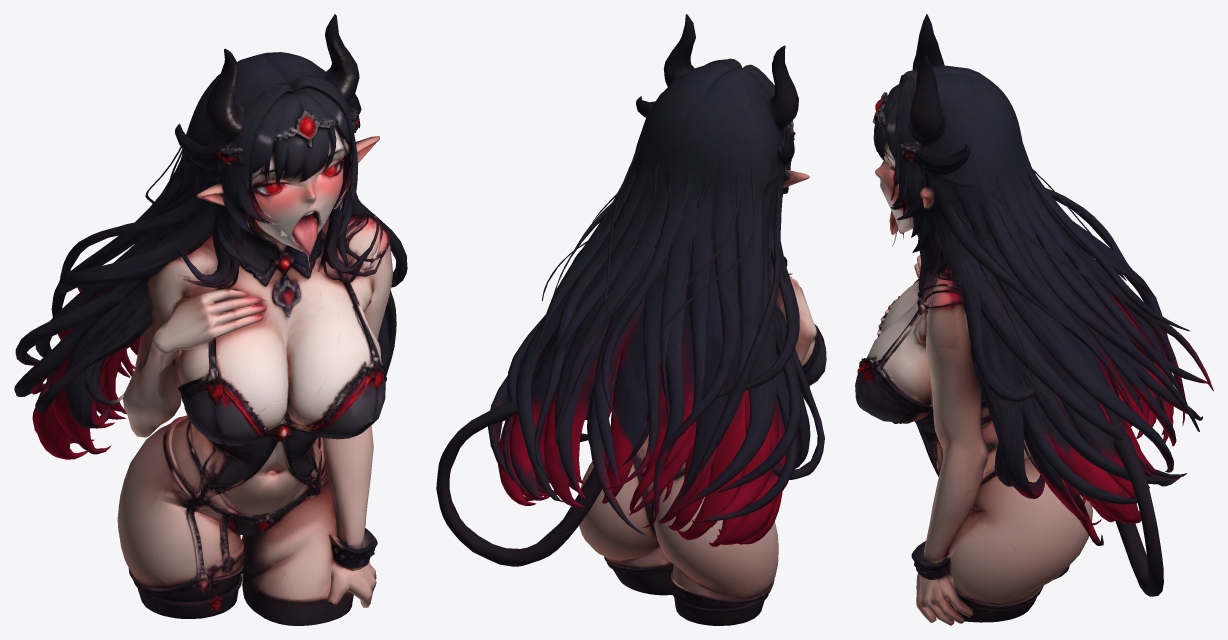
File: 01a1a2e0-870a-7974-9a57-5755efe8a577.glb
The picture shows the model from 3 angles, left to right: view 1: azimuth 30°, elevation 25°; view 2: azimuth 150°, elevation 25°; view 3: azimuth 270°, elevation 25°; orthographic projection. The views are drawn at different scales.
Visible parts, largest first — view 1: node_0; view 2: node_0; view 3: node_0.
Part boxes in pixels (x1=…): node_0: x1=14, y1=14, x2=407, y2=625; node_0: x1=436, y1=14, x2=826, y2=625; node_0: x1=855, y1=14, x2=1213, y2=625.
Bounding box in the file's own units: 0.7256 × 1.11 × 0.6529.
Materials: 1 (1 with a texture image).
